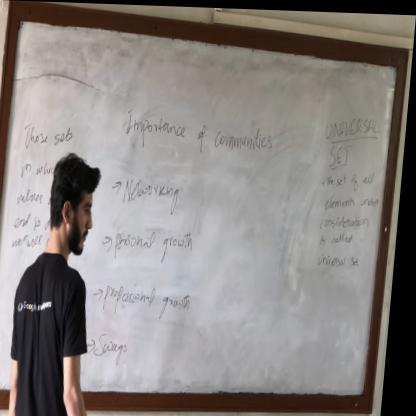Handwritten text: (123, 96, 279, 157), (106, 278, 205, 323), (117, 228, 204, 270), (124, 170, 187, 220), (25, 116, 78, 154), (323, 111, 381, 142), (99, 325, 137, 370), (322, 188, 388, 212), (329, 166, 379, 190), (18, 180, 57, 210), (319, 211, 378, 230), (321, 246, 366, 268), (14, 209, 56, 232), (12, 231, 54, 253), (20, 159, 63, 180), (331, 140, 359, 169), (321, 229, 360, 248)
Lecturer: (8, 150, 112, 414)
Whiteboard: (0, 15, 402, 416)
